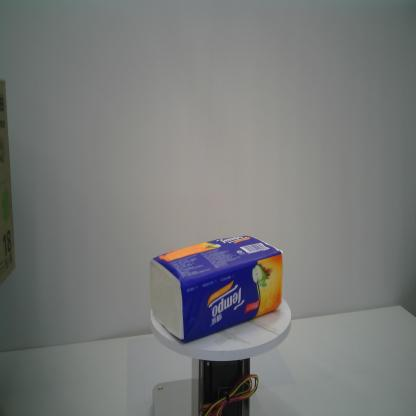Tissue: (147, 234, 285, 341)
